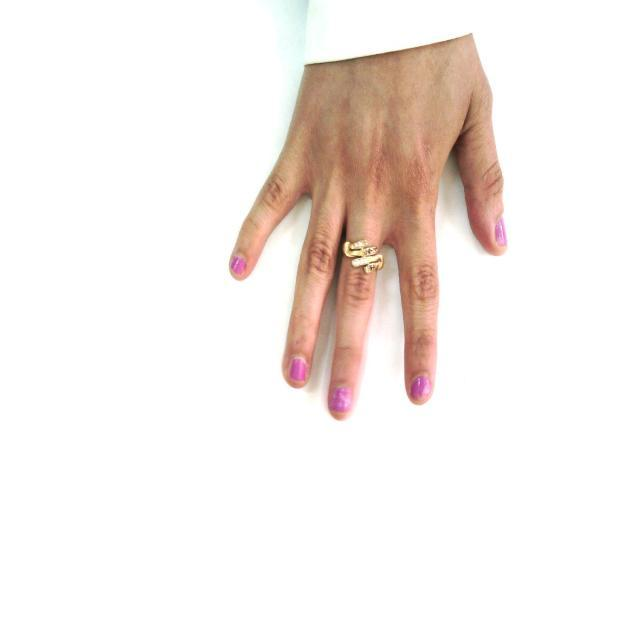Fingernail: (330, 387, 350, 412), (412, 375, 430, 400), (290, 357, 307, 382), (231, 256, 246, 278), (496, 219, 507, 246)
